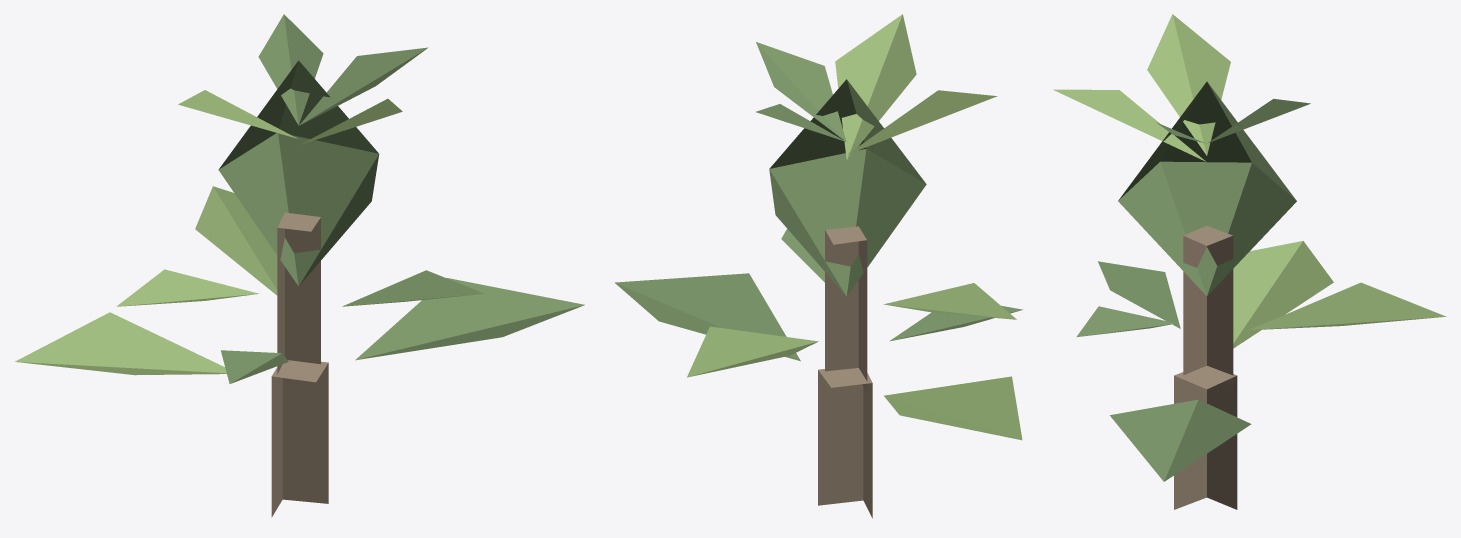
Rendered from shui.luweidang@seedling__bloom.glb.
The picture shows the model from 3 angles, left to right: view 1: azimuth 30°, elevation 25°; view 2: azimuth 150°, elevation 25°; view 3: azimuth 270°, elevation 25°; orthographic projection. The views are drawn at different scales.
Visible parts, largest first — view 1: shui.luweidang@seedling__bloom; view 2: shui.luweidang@seedling__bloom; view 3: shui.luweidang@seedling__bloom.
Boxes of the visible parts, x1,y1,x2,y2 form: shui.luweidang@seedling__bloom: (15, 14, 584, 517); shui.luweidang@seedling__bloom: (615, 14, 1022, 518); shui.luweidang@seedling__bloom: (1053, 14, 1445, 509).
Size of the model in its own units: 0.3681 by 0.3207 by 0.2656.
